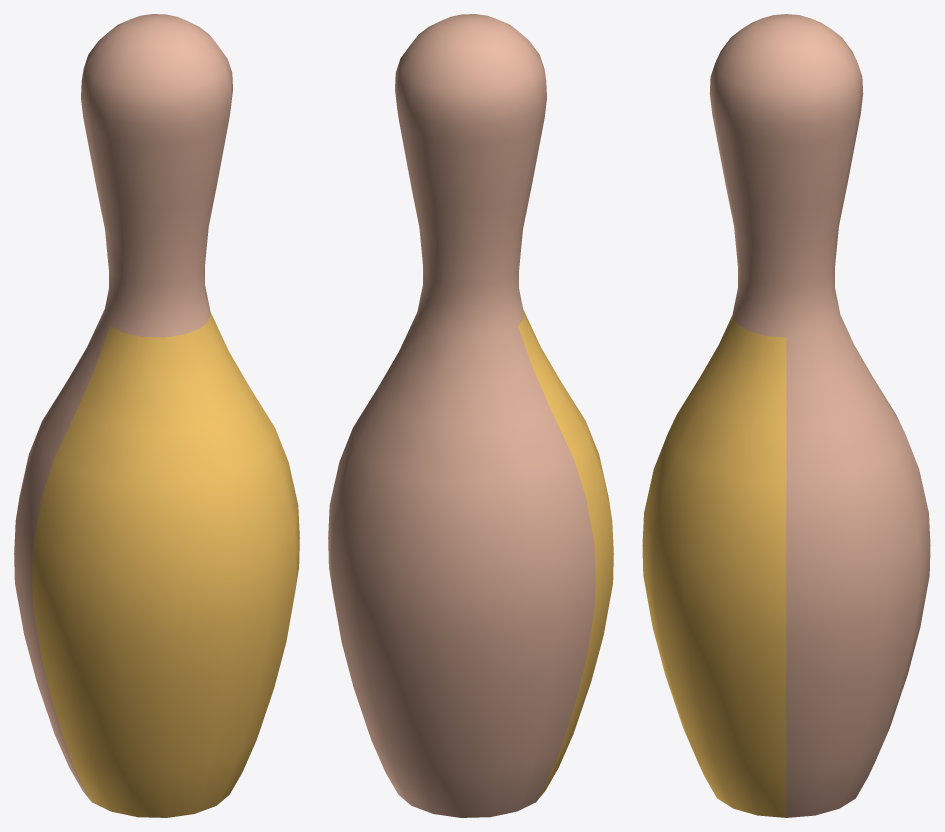
The model's file is bowlingpin.obj.
3 renders of one model, left to right at view 1: azimuth 30°, elevation 25°; view 2: azimuth 150°, elevation 25°; view 3: azimuth 270°, elevation 25°, orthographic.
Parts seen in each view (by area): view 1: BRUNSWICKPIN; view 2: BRUNSWICKPIN; view 3: BRUNSWICKPIN.
Part boxes in pixels (bbox=[...]): BRUNSWICKPIN: bbox=[14, 14, 299, 817]; BRUNSWICKPIN: bbox=[328, 14, 613, 817]; BRUNSWICKPIN: bbox=[642, 14, 930, 817].
Bounding box in the file's own units: 4.05 × 11.86 × 4.05.
